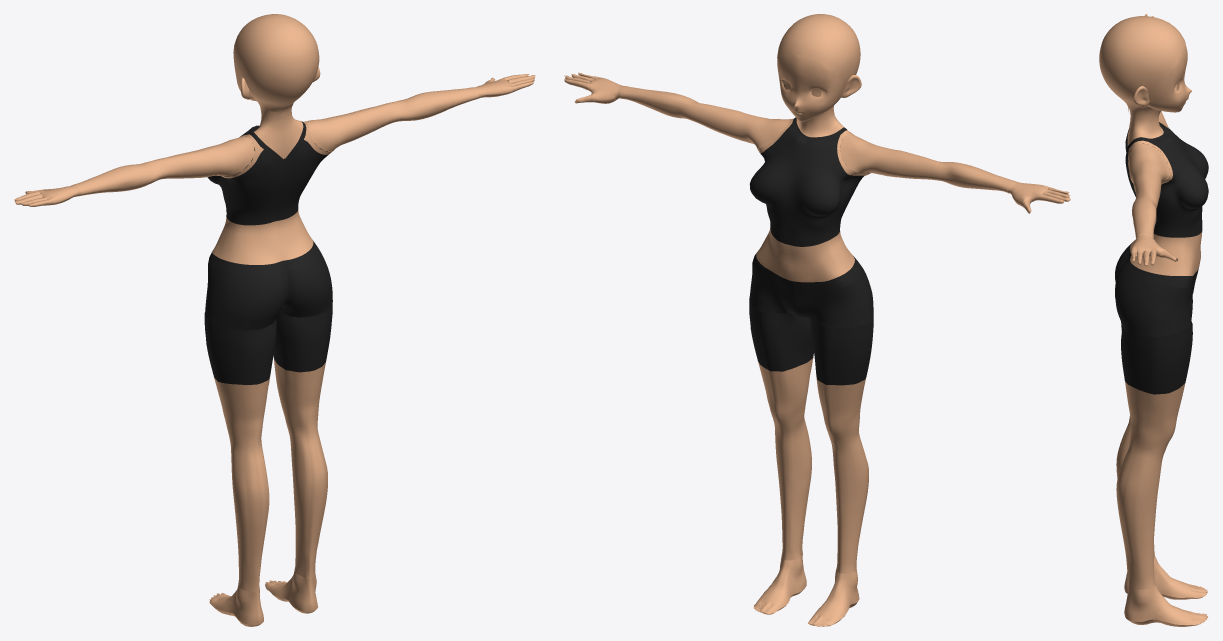
File: Body.fbx
3 views of the same model, side by side, from view 1: azimuth 30°, elevation 25°; view 2: azimuth 150°, elevation 25°; view 3: azimuth 270°, elevation 25° (orthographic). The views are drawn at different scales.
Parts seen in each view (by area): view 1: Body_3C; view 2: Body_3C, Face_3C; view 3: Body_3C, Face_3C.
Part boxes in pixels (x1,y1,x2,y2): Body_3C: (14,14,535,626); Body_3C: (564,14,1070,626); Face_3C: (777,52,861,121); Body_3C: (1099,14,1208,626); Face_3C: (1133,44,1191,112).
Bounding box in the file's own units: 144 × 158 × 26.52.
